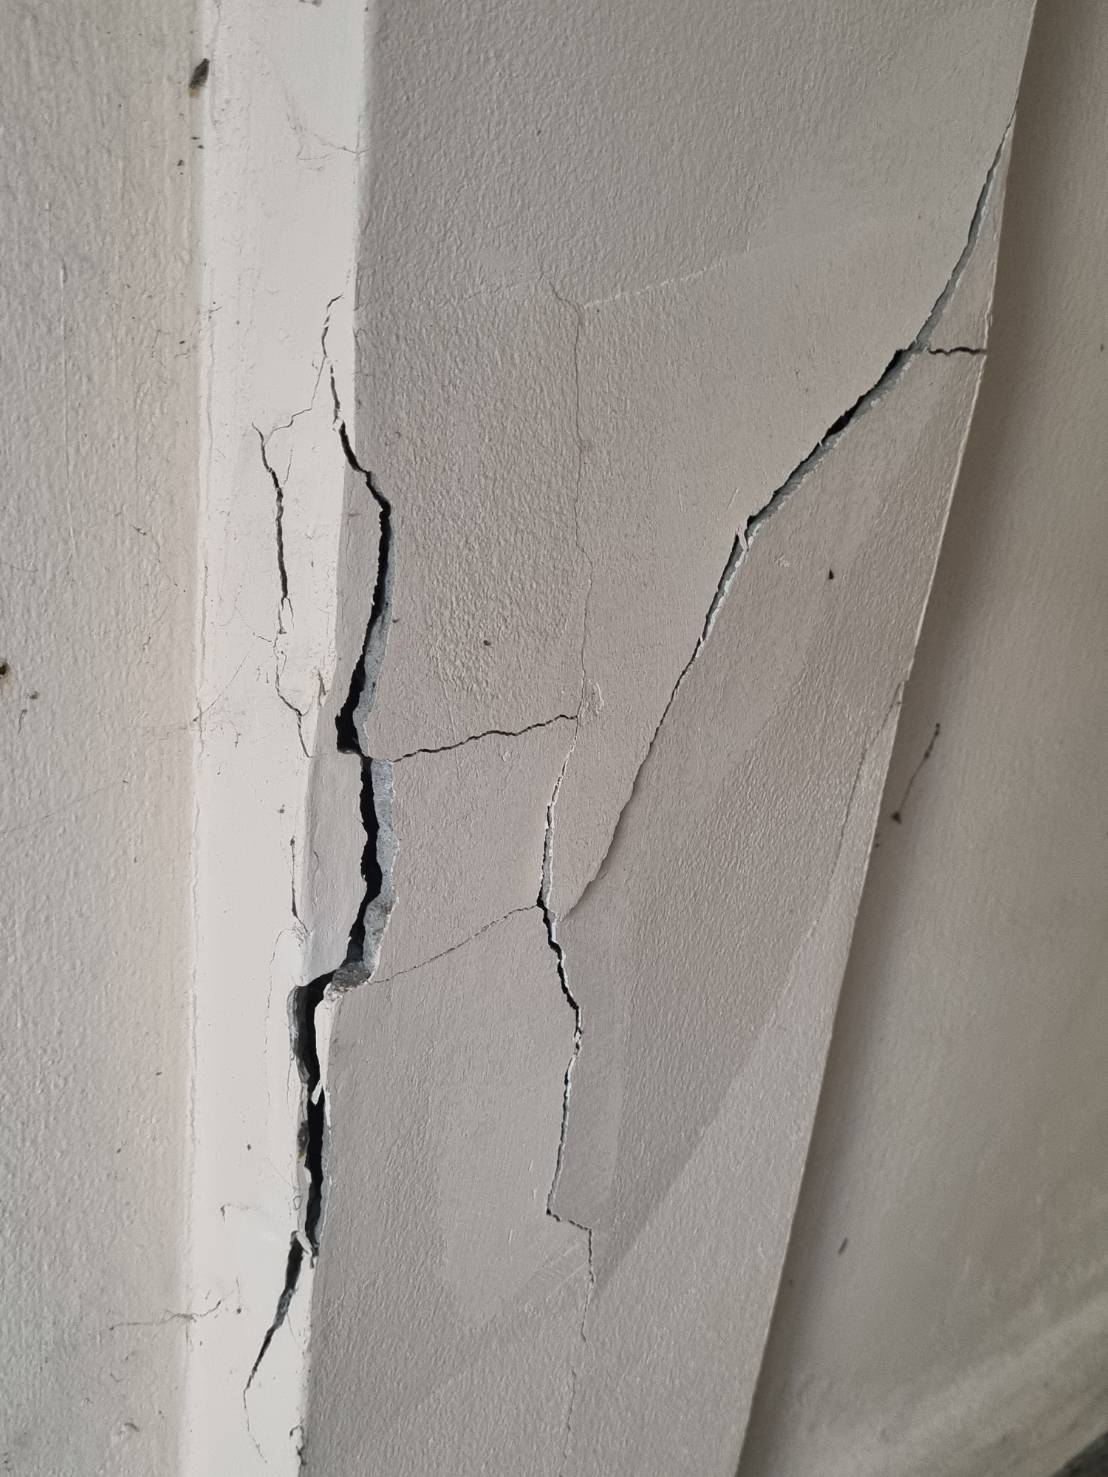High: (173, 95, 1025, 1475)
